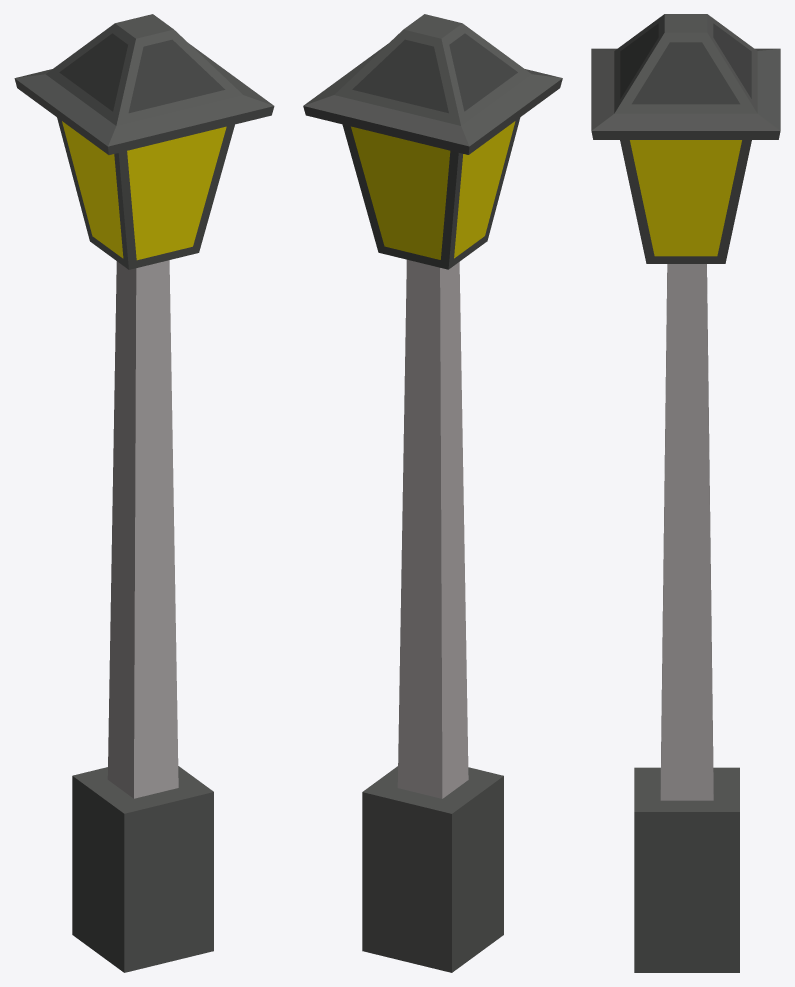
Rendered from road light2.FBX.
3 views of the same model, side by side, from view 1: azimuth 30°, elevation 25°; view 2: azimuth 150°, elevation 25°; view 3: azimuth 270°, elevation 25° (orthographic).
Visible parts, largest first — view 1: road light2; view 2: road light2; view 3: road light2.
Part boxes in pixels (left/top/right/bottom): road light2: left=14, top=14, right=274, bottom=972; road light2: left=303, top=14, right=562, bottom=972; road light2: left=591, top=14, right=780, bottom=972.
Bounding box in the file's own units: 1.99 × 10.46 × 1.93.
